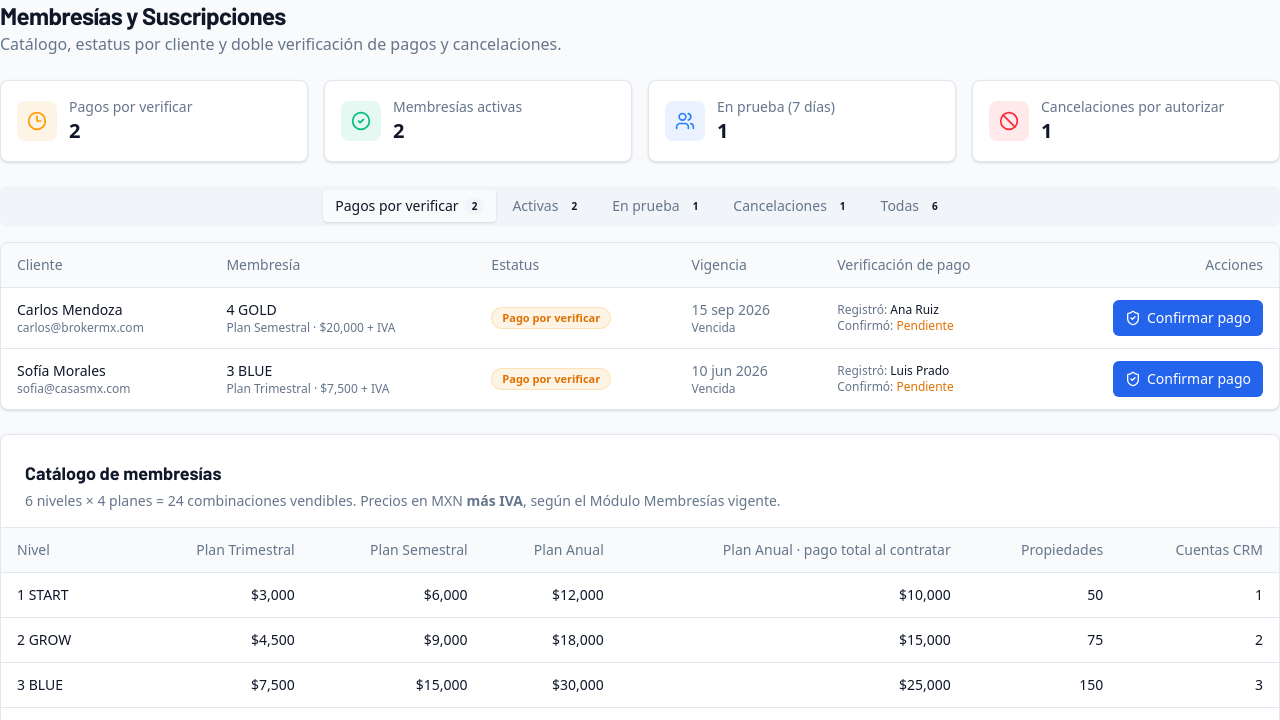
Scenario: <AdminMembresiasPage /> › la cancelación por falta de pago requiere un segundo administrador
Click the tab "Cancelaciones 1" at (793,206), box [721,190,865,222]
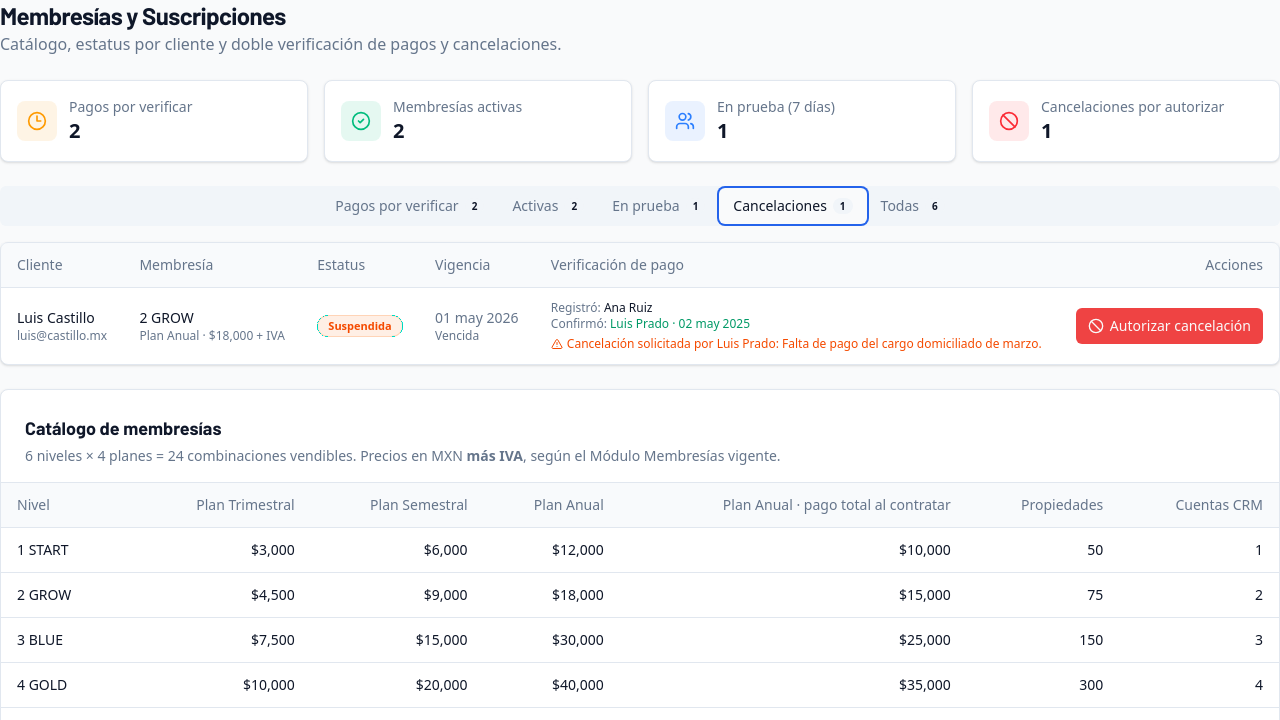
Now the row with test id "row-sub-6" shows "Cancelación solicitada por Luis Prado", box [1,288,1279,364]
Click the button "Autorizar cancelación" at (1169,326), box [1076,308,1263,344]
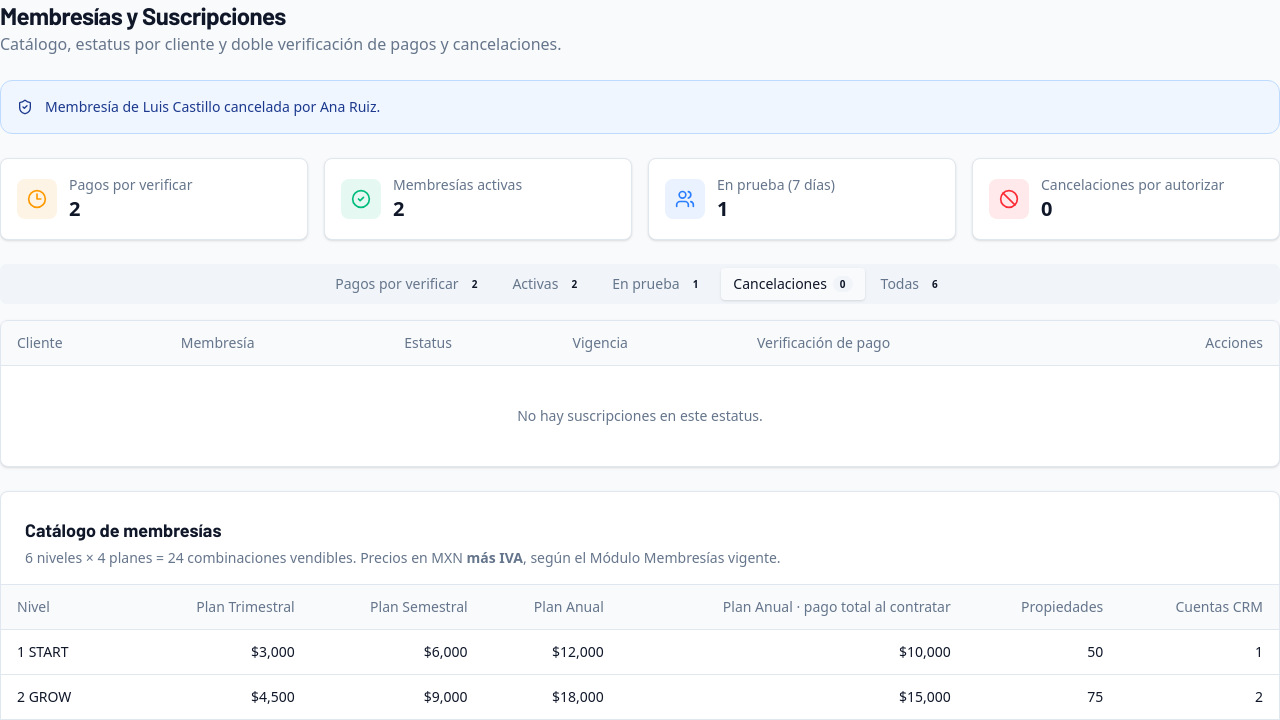
Now the message shows "cancelada por Ana Ruiz", box [45,97,380,116]
